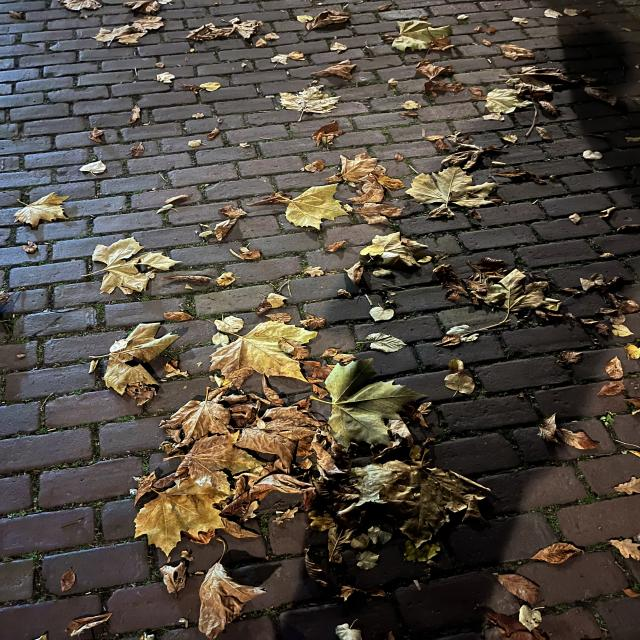leaves: (105, 318, 480, 622), (296, 156, 482, 281), (452, 262, 583, 336), (482, 36, 566, 136), (179, 22, 326, 68), (82, 236, 183, 290), (525, 406, 605, 454), (0, 190, 77, 228), (381, 14, 444, 59), (91, 12, 159, 48), (279, 81, 344, 117), (601, 342, 640, 402), (529, 536, 585, 572), (506, 576, 542, 627)
pavement: (0, 337, 96, 568), (0, 6, 99, 159), (98, 127, 252, 219), (480, 459, 608, 530), (354, 106, 469, 149), (105, 83, 207, 122), (494, 199, 573, 249), (253, 215, 306, 261), (507, 143, 569, 174)
weed: (596, 409, 627, 431)
